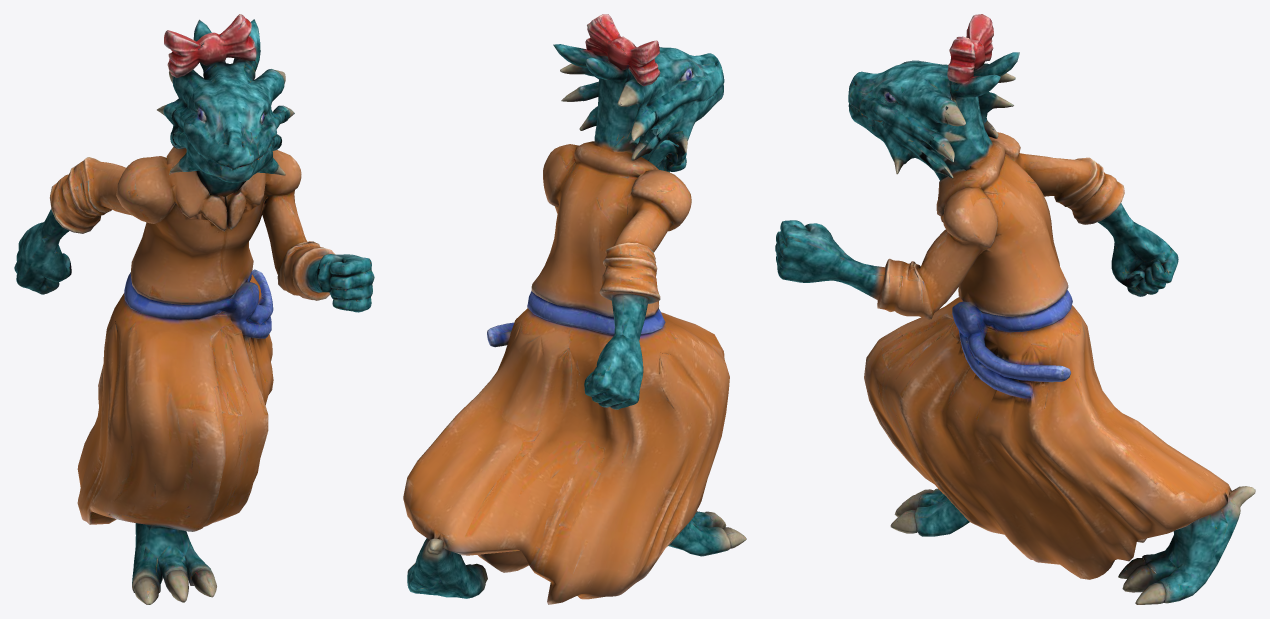
Rendered from MZ4250 - Dragonborn Child.glb.
3 views of the same model, side by side, from view 1: azimuth 30°, elevation 25°; view 2: azimuth 150°, elevation 25°; view 3: azimuth 270°, elevation 25° (orthographic). The views are drawn at different scales.
Parts seen in each view (by area): view 1: default; view 2: default; view 3: default.
Part boxes in pixels (x1=…): default: x1=14, y1=14, x2=374, y2=604; default: x1=403, y1=14, x2=746, y2=604; default: x1=775, y1=14, x2=1255, y2=604.
Size of the model in its own units: 0.3412 by 0.7581 by 0.6315.
Materials: 1 (1 with a texture image).
